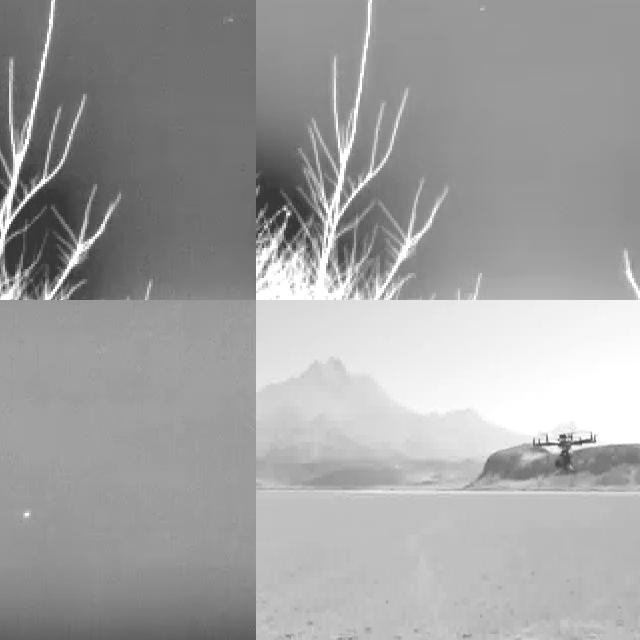0: (473, 0, 499, 29), (224, 9, 242, 37)
1: (15, 502, 47, 534)
drone: (534, 430, 598, 476)
